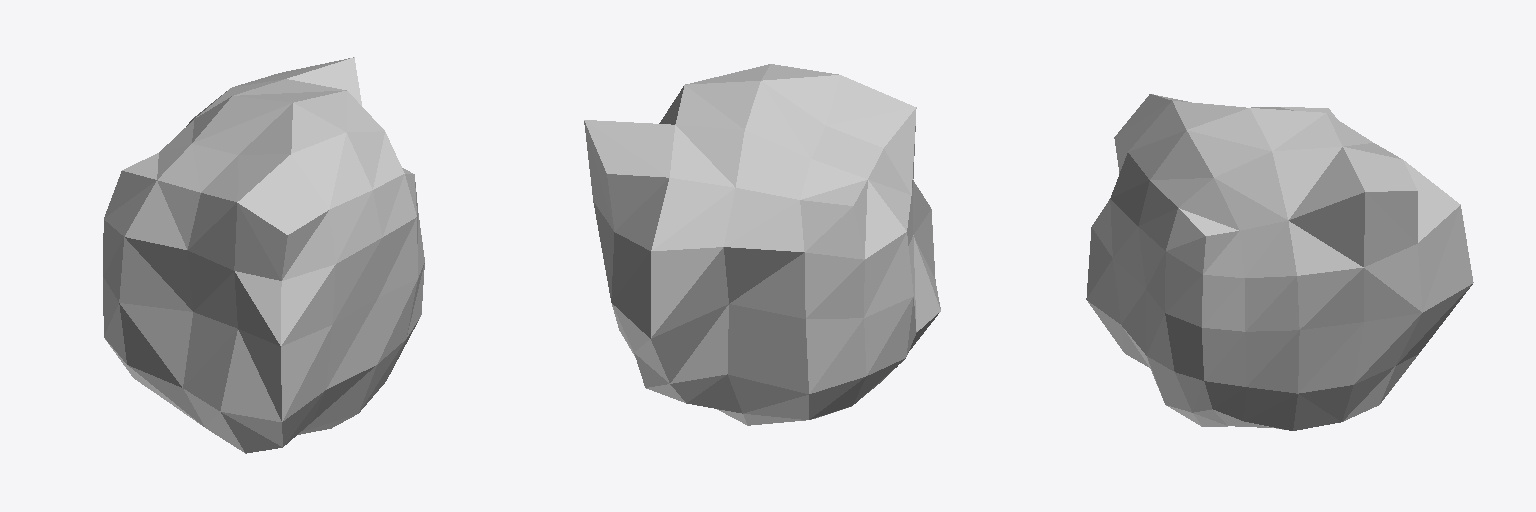
Rendered from rock039.obj.
The picture shows the model from 3 angles: view 1: azimuth 30°, elevation 25°; view 2: azimuth 150°, elevation 25°; view 3: azimuth 270°, elevation 25°; orthographic projection.
Parts seen in each view (by area): view 1: pCube136; view 2: pCube136; view 3: pCube136.
Boxes of the visible parts, <box> form: pCube136: <box>103,57,424,453</box>; pCube136: <box>584,64,940,425</box>; pCube136: <box>1086,94,1473,430</box>.
Bounding box in the file's own units: 1170 × 1257 × 1388.